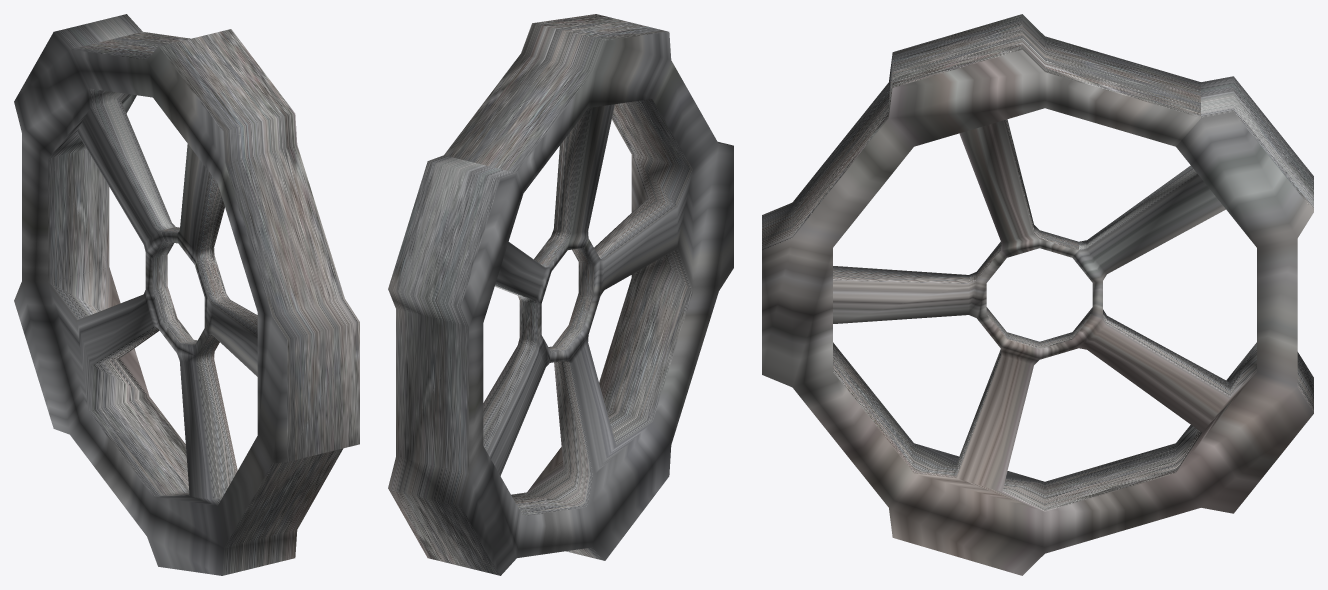
The model's file is wheel.fbx.
The picture shows the model from 3 angles, left to right: view 1: azimuth 30°, elevation 25°; view 2: azimuth 150°, elevation 25°; view 3: azimuth 270°, elevation 25°; orthographic projection.
Parts seen in each view (by area): view 1: polySurface10; view 2: polySurface10; view 3: polySurface10.
Boxes of the visible parts, bbox=[...] form: polySurface10: bbox=[14, 14, 359, 575]; polySurface10: bbox=[388, 14, 733, 575]; polySurface10: bbox=[762, 14, 1313, 575].
Bounding box in the file's own units: 0.4191 × 2.85 × 2.71.
Materials: 1 (1 with a texture image).
